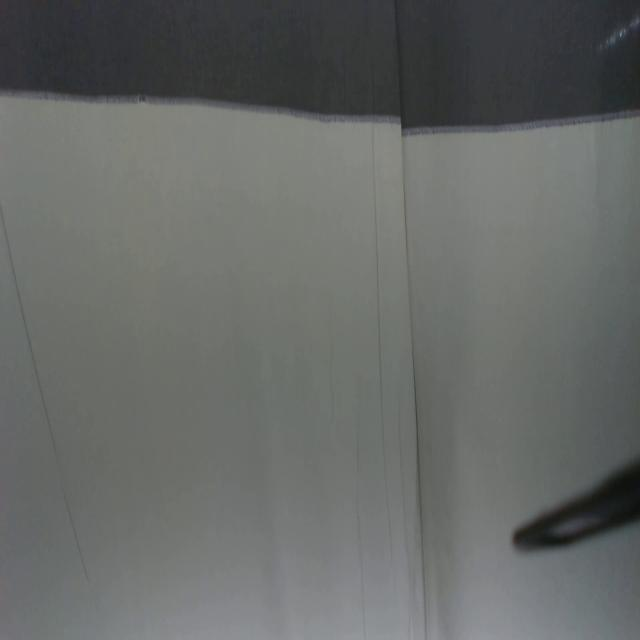crease: (0, 200, 95, 592), (392, 0, 433, 634), (367, 122, 395, 557), (352, 409, 370, 634)
